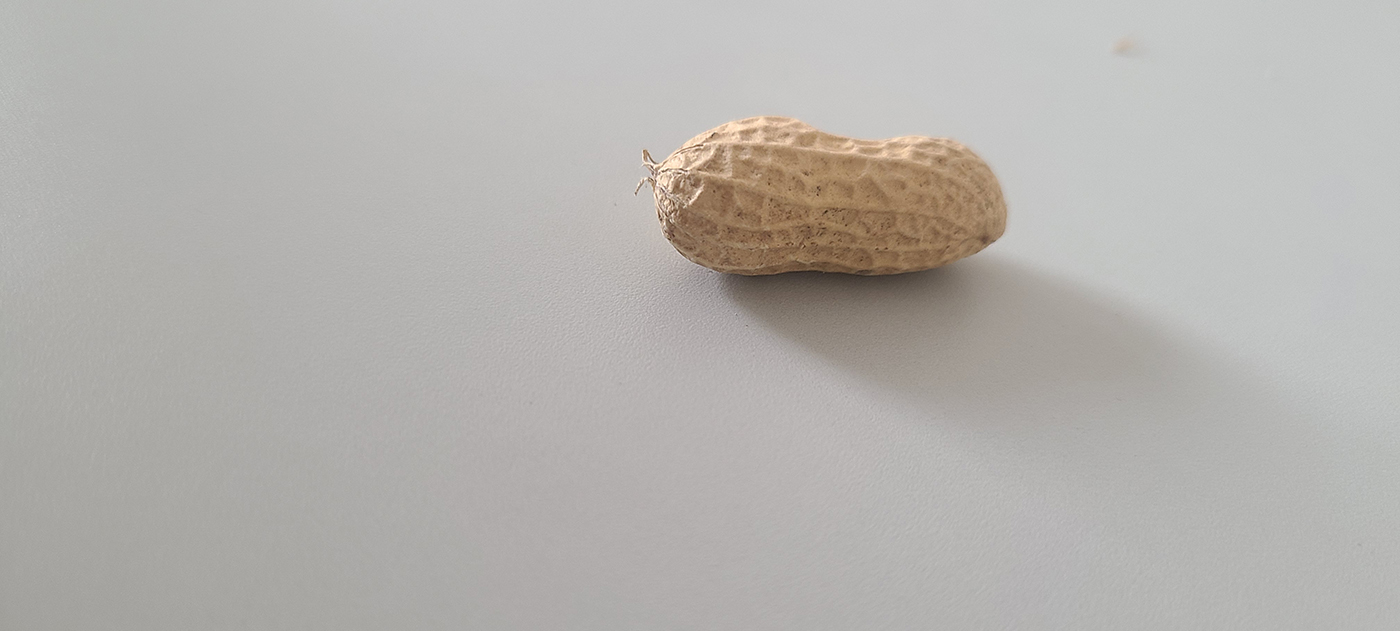h: (652, 114, 1011, 274)
